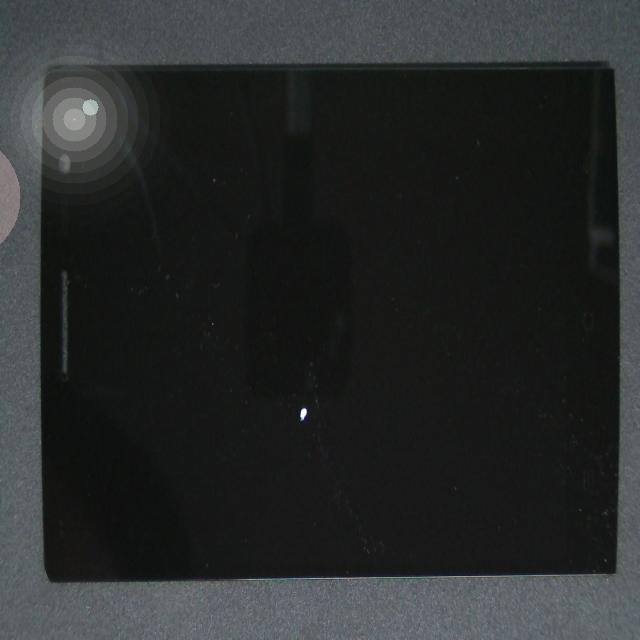stain: (114, 211, 448, 640)
